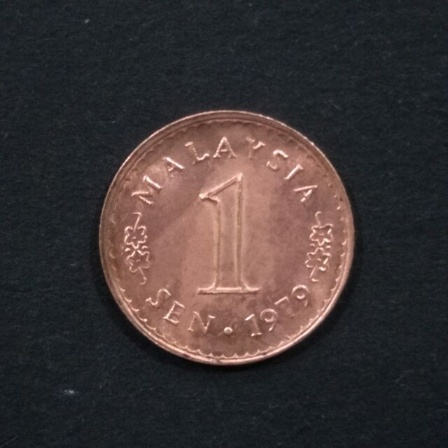1c: (96, 107, 357, 368)
